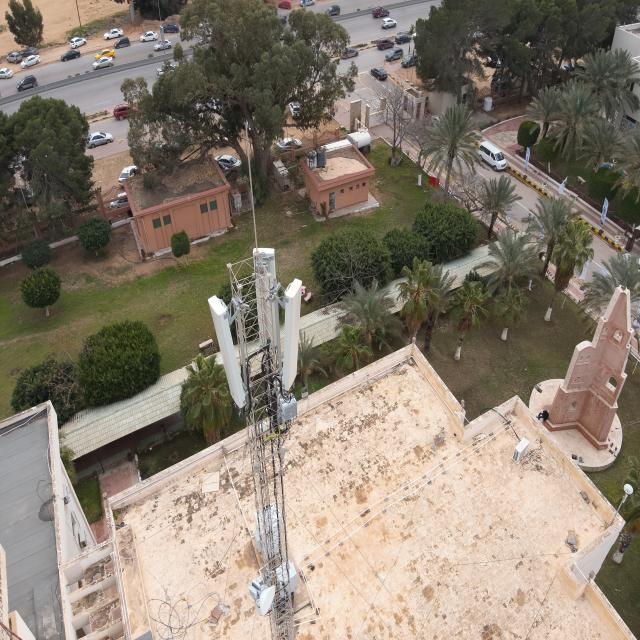antenna: (208, 294, 246, 412), (252, 247, 280, 352), (281, 278, 304, 394)
lighnig-rad: (244, 125, 258, 254)
microware-dish: (248, 578, 278, 617)
radio-unit: (274, 380, 300, 421)
